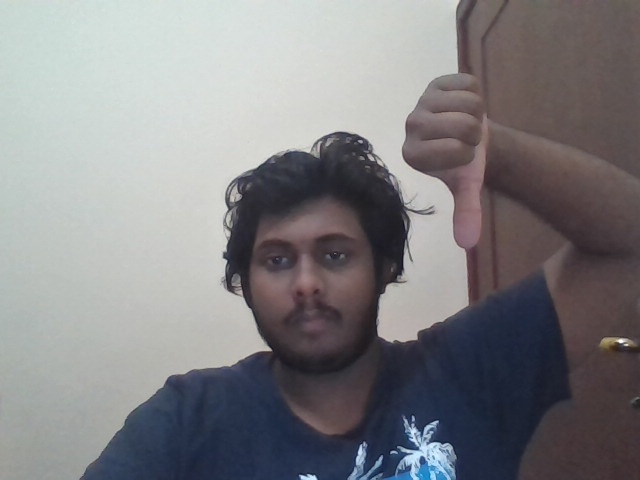thumbsdown: (402, 74, 488, 249)
